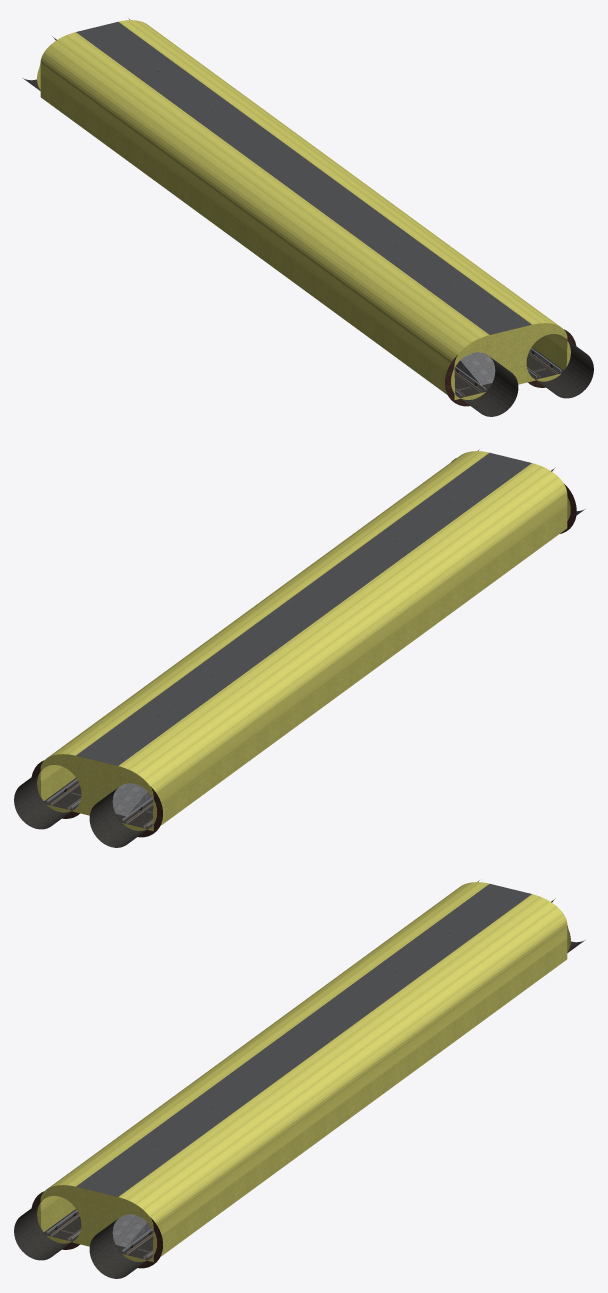
Rendered from station_west-street.glb.
The picture shows the model from 3 angles, top to bottom: view 1: azimuth 30°, elevation 25°; view 2: azimuth 150°, elevation 25°; view 3: azimuth 330°, elevation 25°; orthographic projection.
Visible parts, largest first — view 1: hall_shell, end_walls; view 2: hall_shell, end_walls; view 3: hall_shell, end_walls.
Part boxes in pixels (x1,y1,x2,y2): hall_shell: (40,20,567,399); end_walls: (23,18,593,416); hall_shell: (40,451,567,830); end_walls: (14,449,584,847); hall_shell: (40,882,567,1261); end_walls: (14,880,584,1278).
Size of the model in its own units: 9.94 by 4.84 by 60.
Materials: 29 (20 with a texture image).
